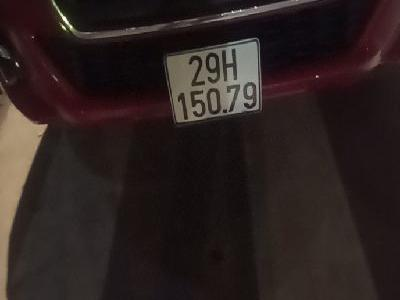number: (169, 39, 262, 123)
